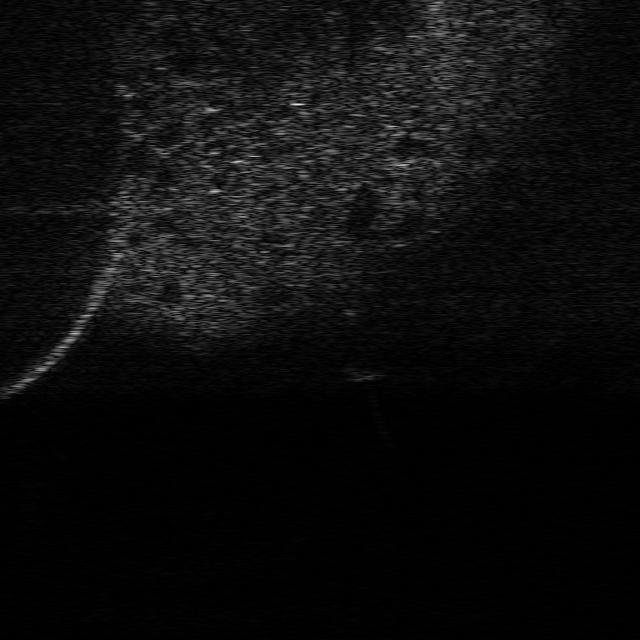cube: (345, 362, 387, 382)
cylinder: (342, 306, 362, 328)
